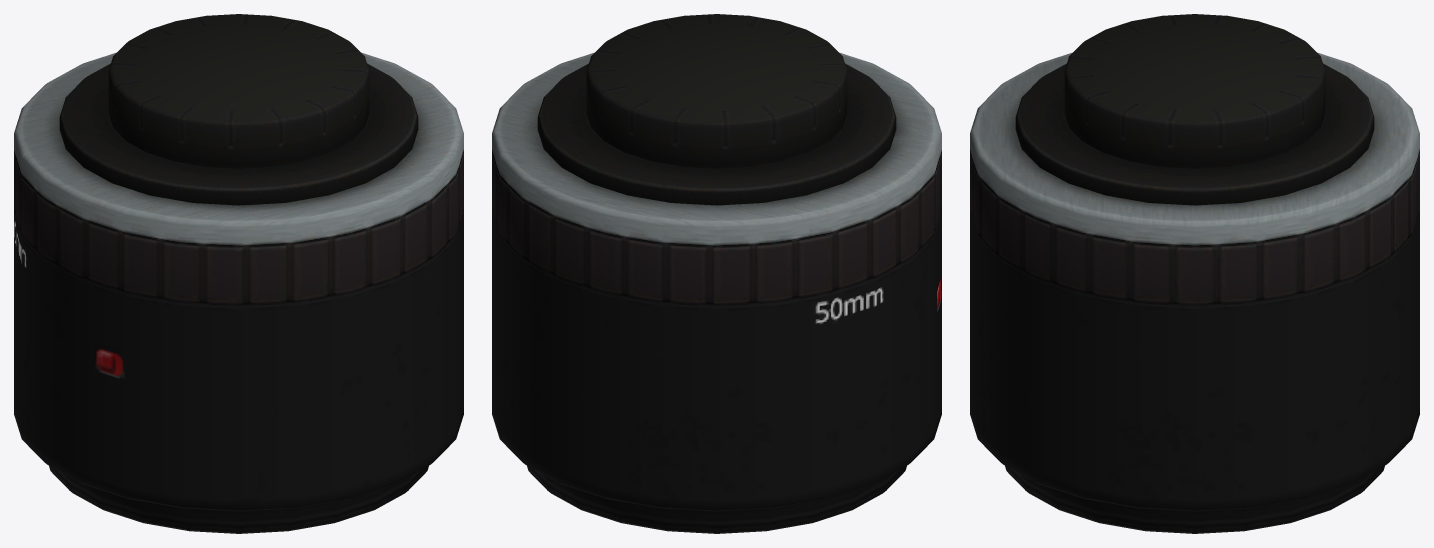
File: objective02.dae
The picture shows the model from 3 angles, left to right: view 1: azimuth 30°, elevation 25°; view 2: azimuth 150°, elevation 25°; view 3: azimuth 270°, elevation 25°; orthographic projection.
Parts seen in each view (by area): view 1: objective_02; view 2: objective_02; view 3: objective_02.
Boxes of the visible parts, box(x1,y1,x2,y2) form: objective_02: box(14, 14, 463, 533); objective_02: box(492, 14, 941, 533); objective_02: box(970, 14, 1419, 533).
Bounding box in the file's own units: 14.9 × 14.09 × 14.9.
